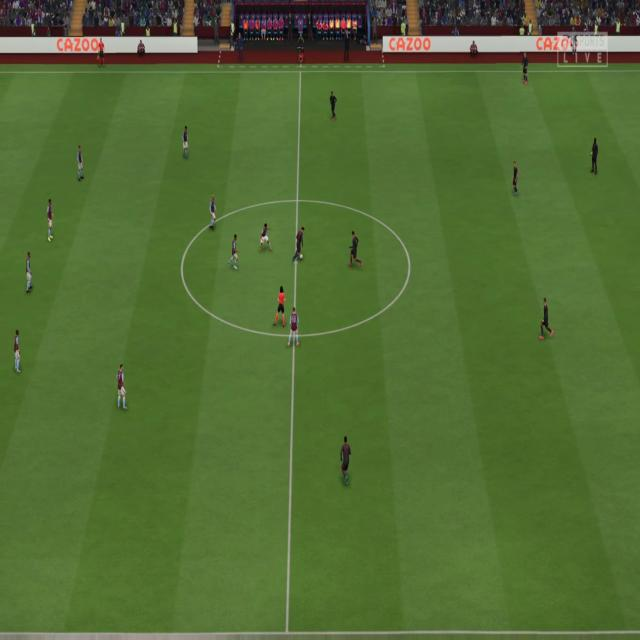Ball: (300, 253, 304, 261)
Referee: (274, 287, 287, 328)
Team-A: (538, 297, 552, 341), (340, 437, 351, 487), (348, 232, 361, 266), (292, 228, 305, 262), (590, 140, 600, 175), (329, 91, 339, 120), (521, 54, 530, 85), (512, 162, 520, 195)
Team-H: (117, 366, 130, 412), (287, 307, 299, 347), (228, 234, 240, 272), (24, 252, 34, 295), (47, 200, 56, 242), (75, 146, 85, 183), (260, 223, 272, 253), (14, 330, 22, 372), (208, 196, 218, 227), (183, 126, 190, 157)
